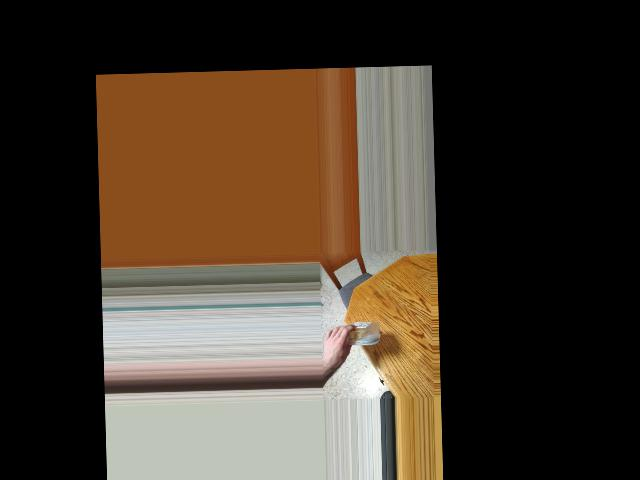cheese: (332, 314, 378, 354)
